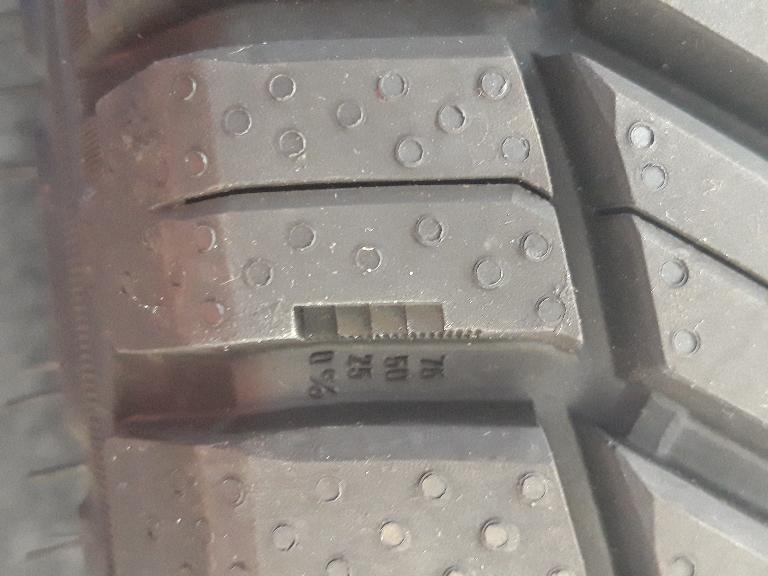temoin:100: (287, 295, 486, 352)
